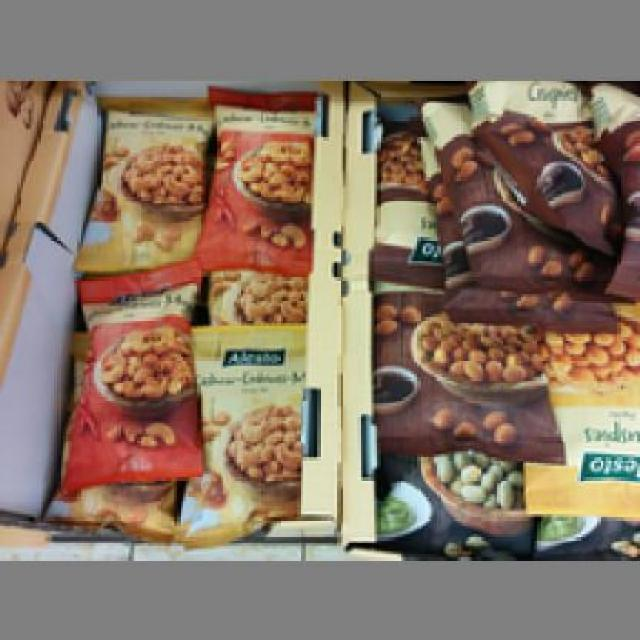Nuts: (374, 274, 563, 466), (51, 255, 202, 494), (172, 320, 302, 546), (68, 91, 212, 272), (466, 77, 612, 254), (193, 82, 310, 275)
